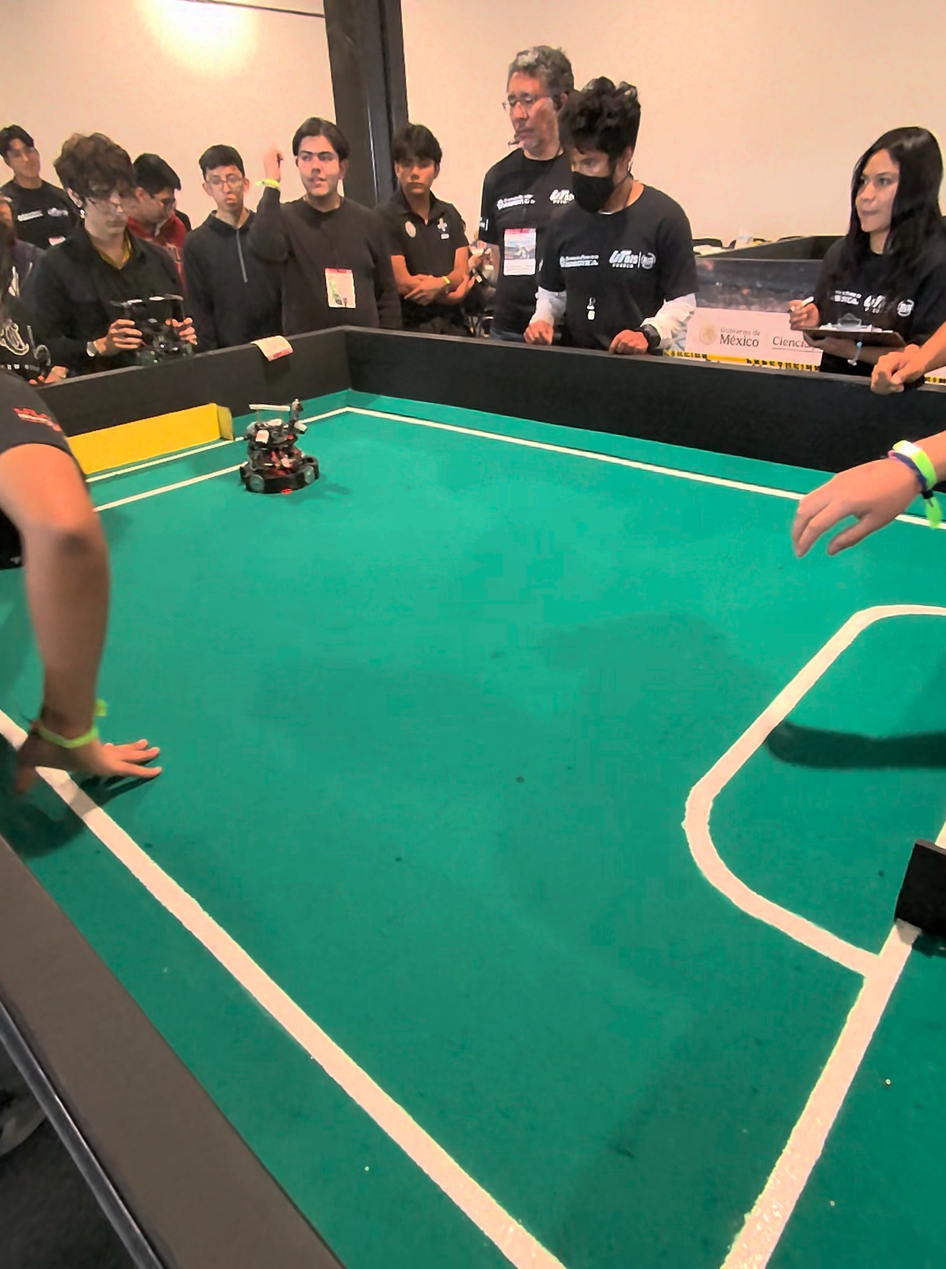Robot: (238, 403, 322, 500)
